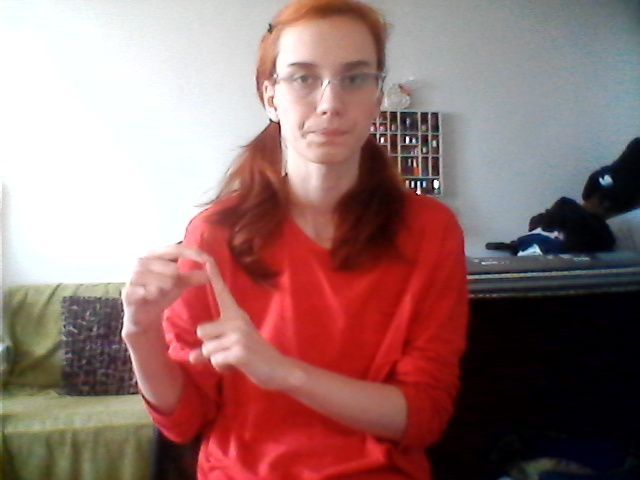p: (108, 246, 284, 392)
